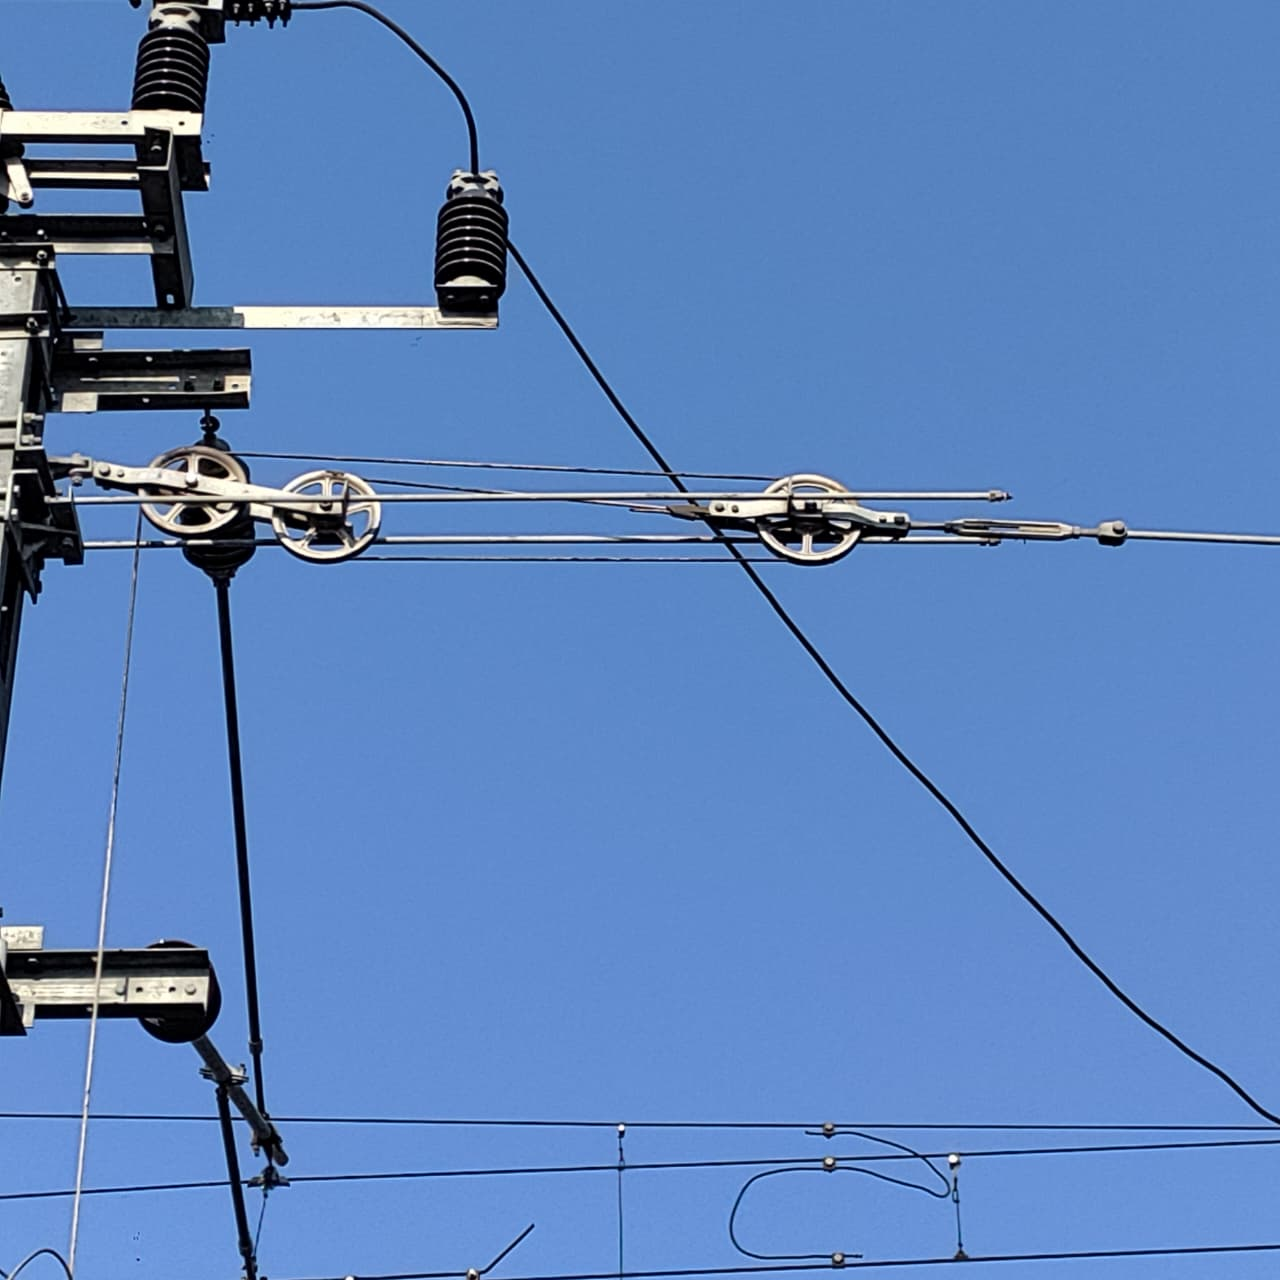Pulley: (282, 465, 394, 572), (148, 438, 245, 545)
objectA: (430, 162, 508, 314), (144, 924, 227, 1048), (762, 470, 865, 566), (130, 14, 217, 127)
